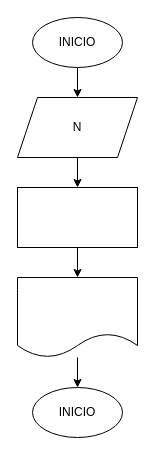
The diagram is 155 pixels wide and 455 high, and some of its shapes have lost their labels. The centre of each missing label's shape, as x and y in pixels:
suma: the point at 77,317
suma = N(N+1)/2: the point at 77,217
